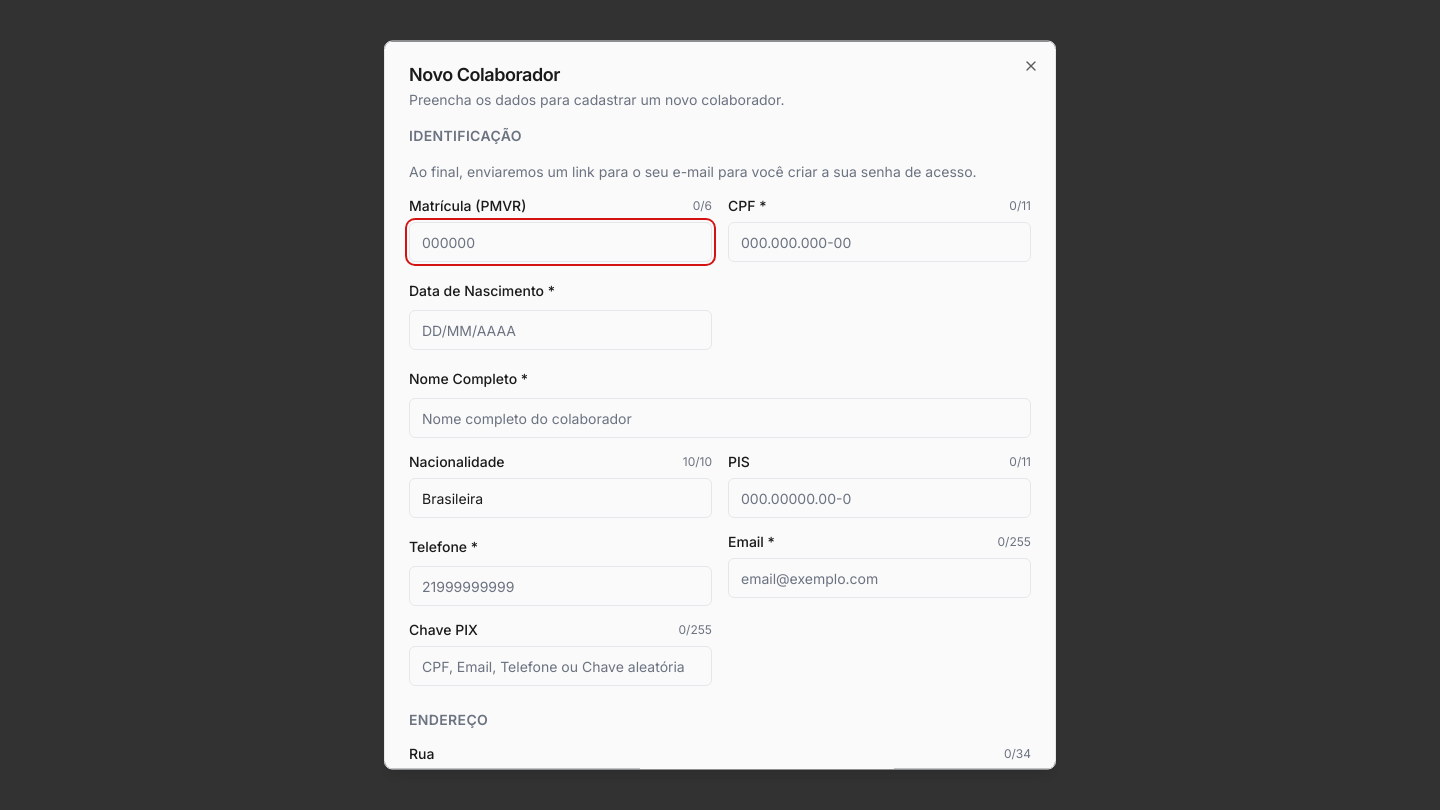
it: ColaboradorDialog (interação) › modo público › traduz 'CPF já cadastrado' em vez de repassar o texto do servidor
Type "Beltrana Silva" into the field labelled "Nome Completo *".
click(720, 418); type("Beltrana Silva")  # box [409, 398, 1031, 438]
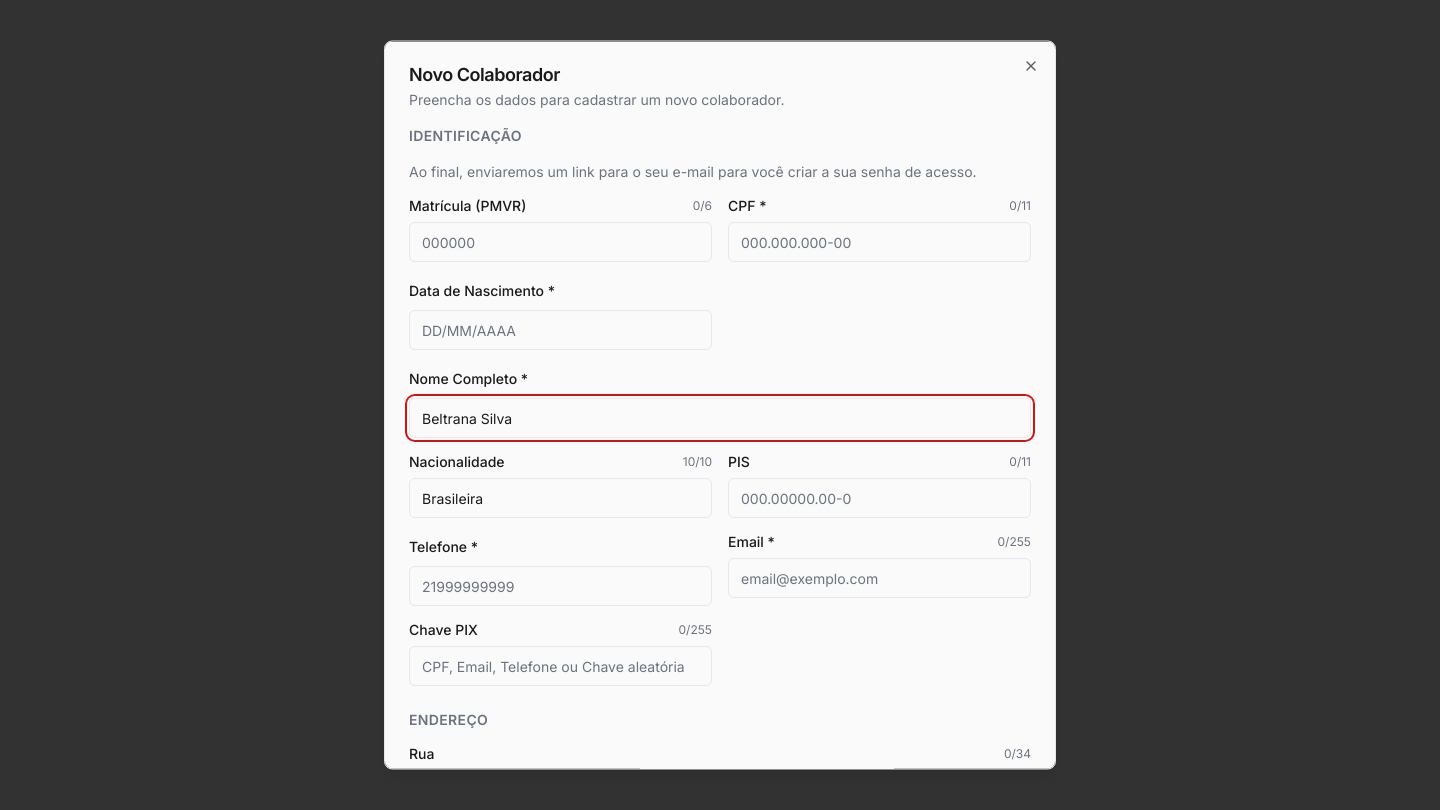
Type "01234567890" into the field labelled "CPF *".
click(880, 242); type("01234567890")  # box [728, 222, 1031, 262]
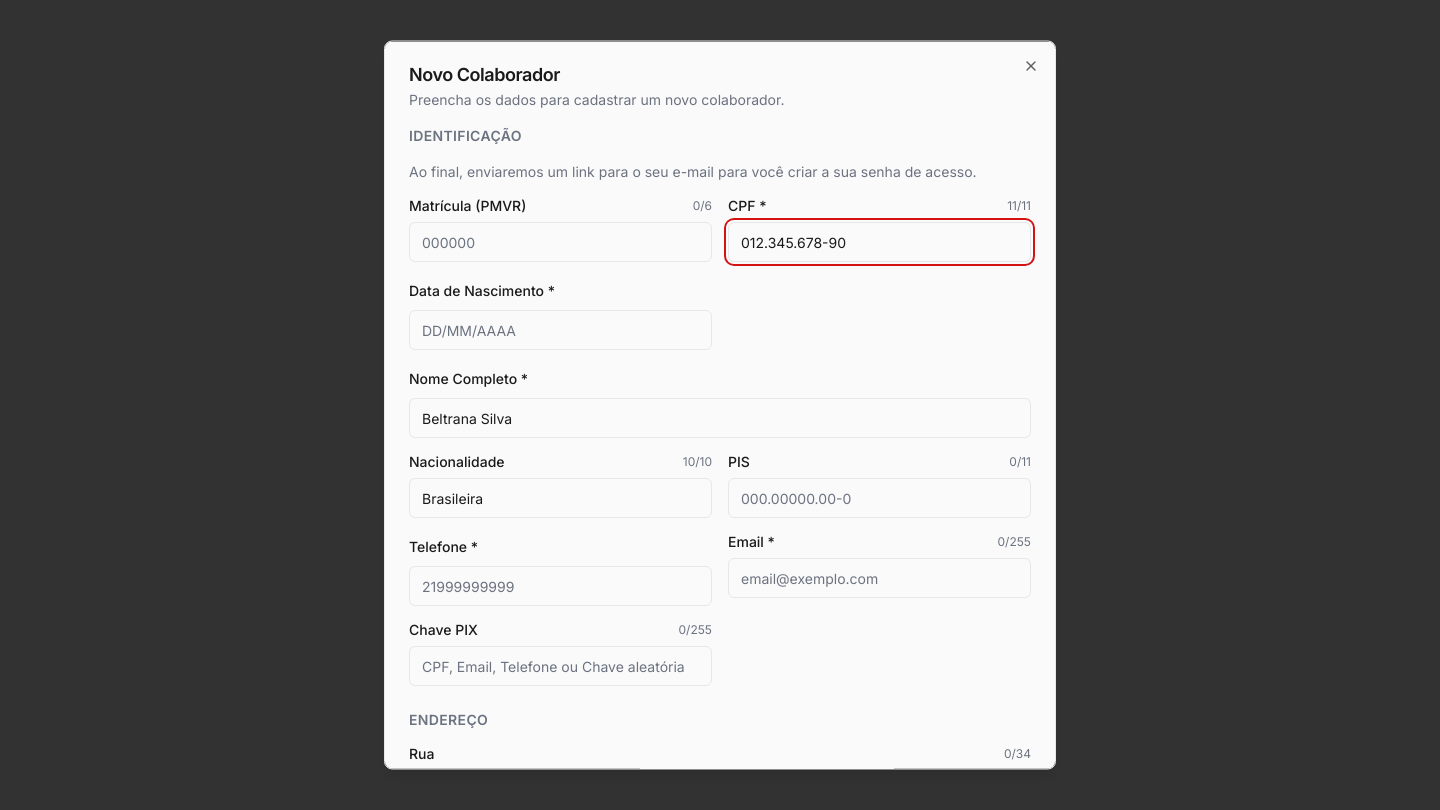
Type "20051990" into the field labelled "Data de Nascimento *".
click(560, 330); type("20051990")  # box [409, 310, 712, 350]
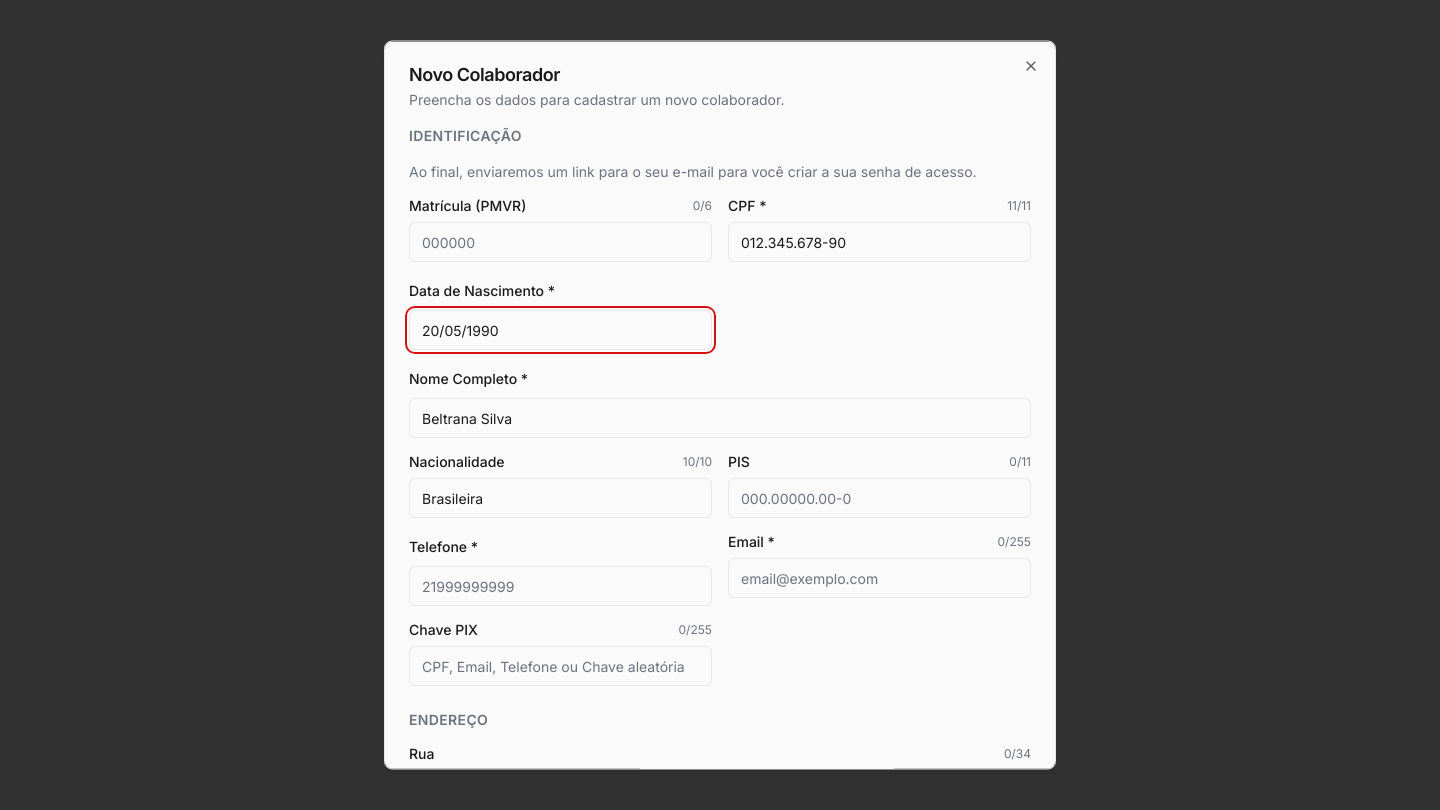
Type "24999998888" into the field labelled "Telefone *".
click(560, 586); type("24999998888")  # box [409, 566, 712, 606]
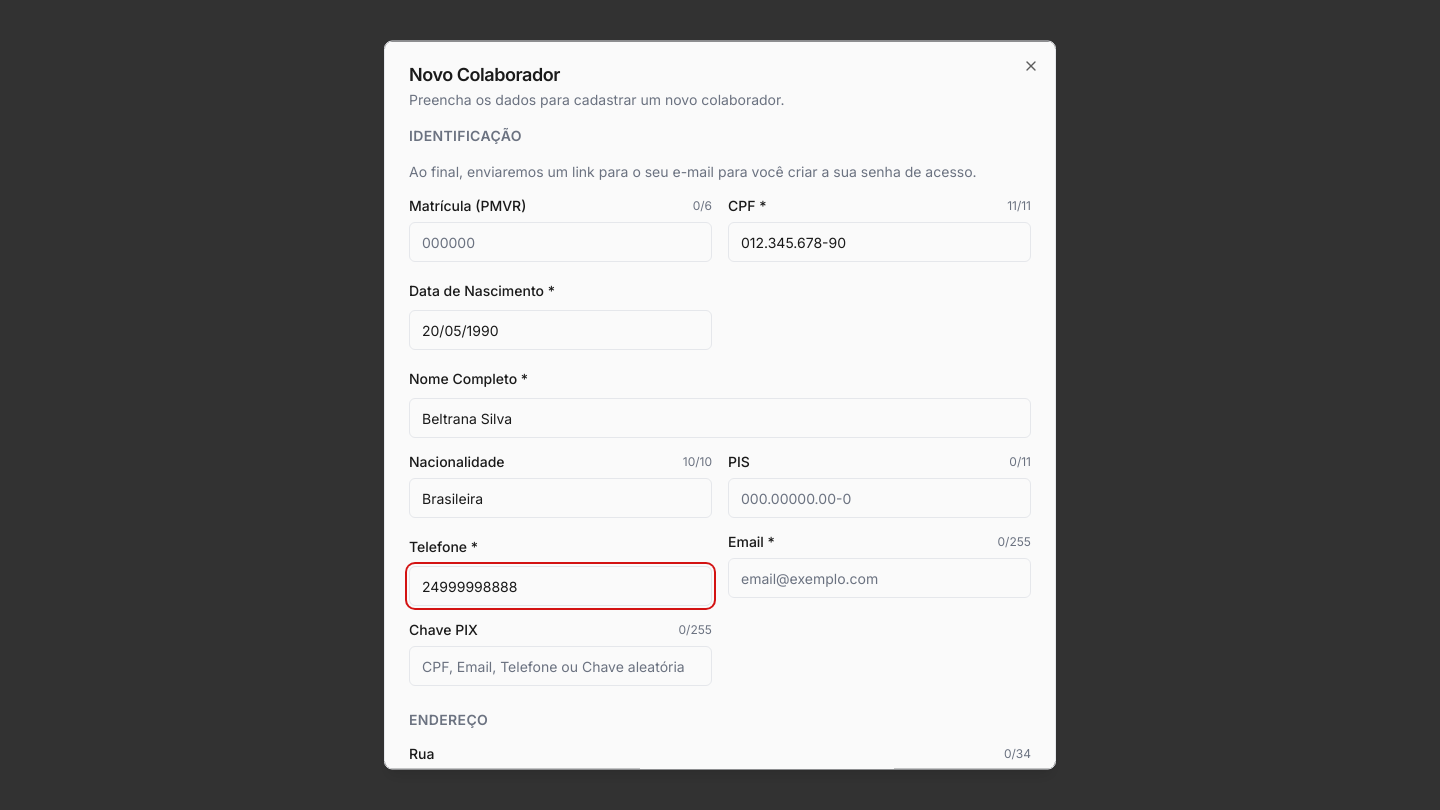
Type "nova@exemplo.com" into the field labelled "Email *".
click(880, 578); type("nova@exemplo.com")  # box [728, 558, 1031, 598]
(page scrolled)
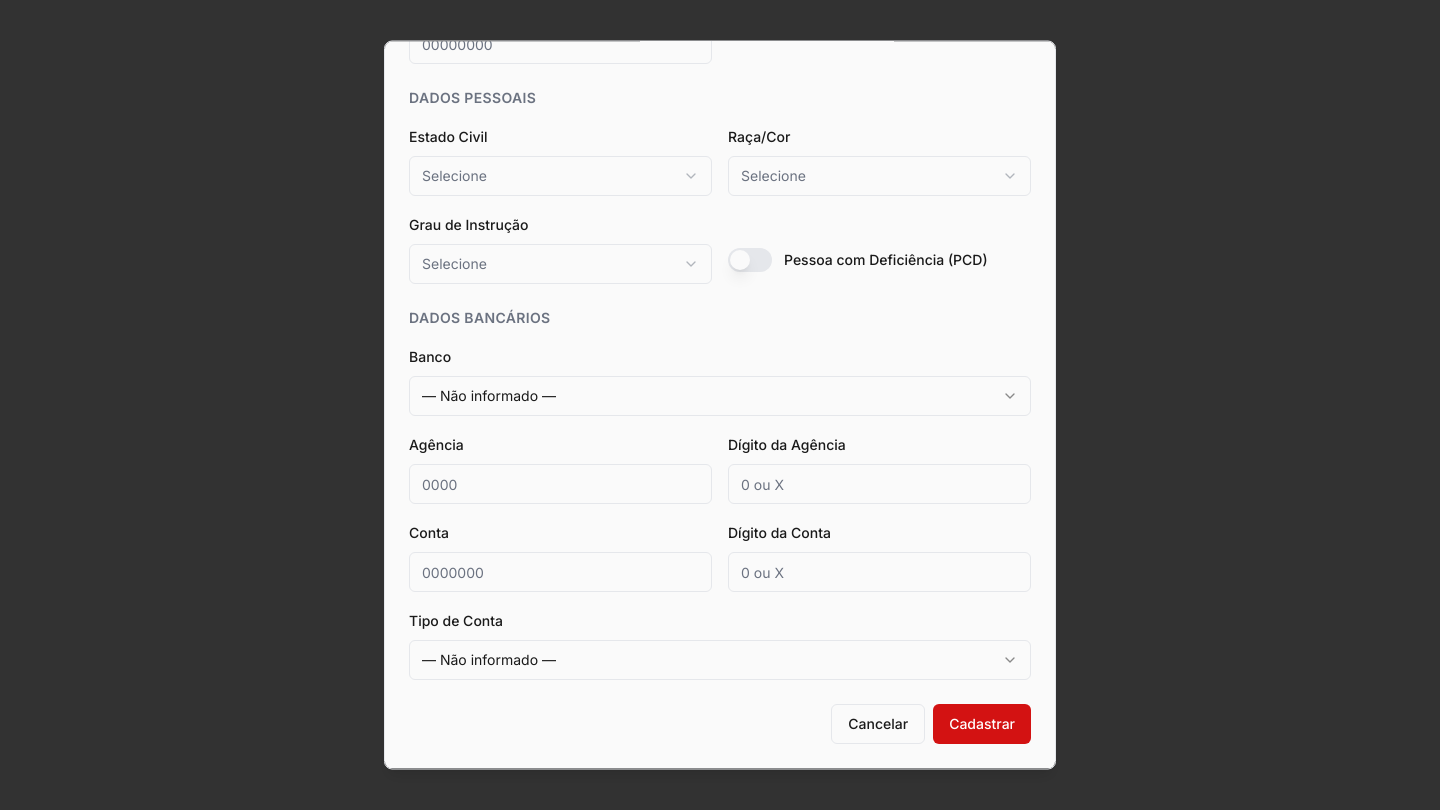
Click the button "Cadastrar".
click(982, 724)  # box [933, 704, 1031, 744]
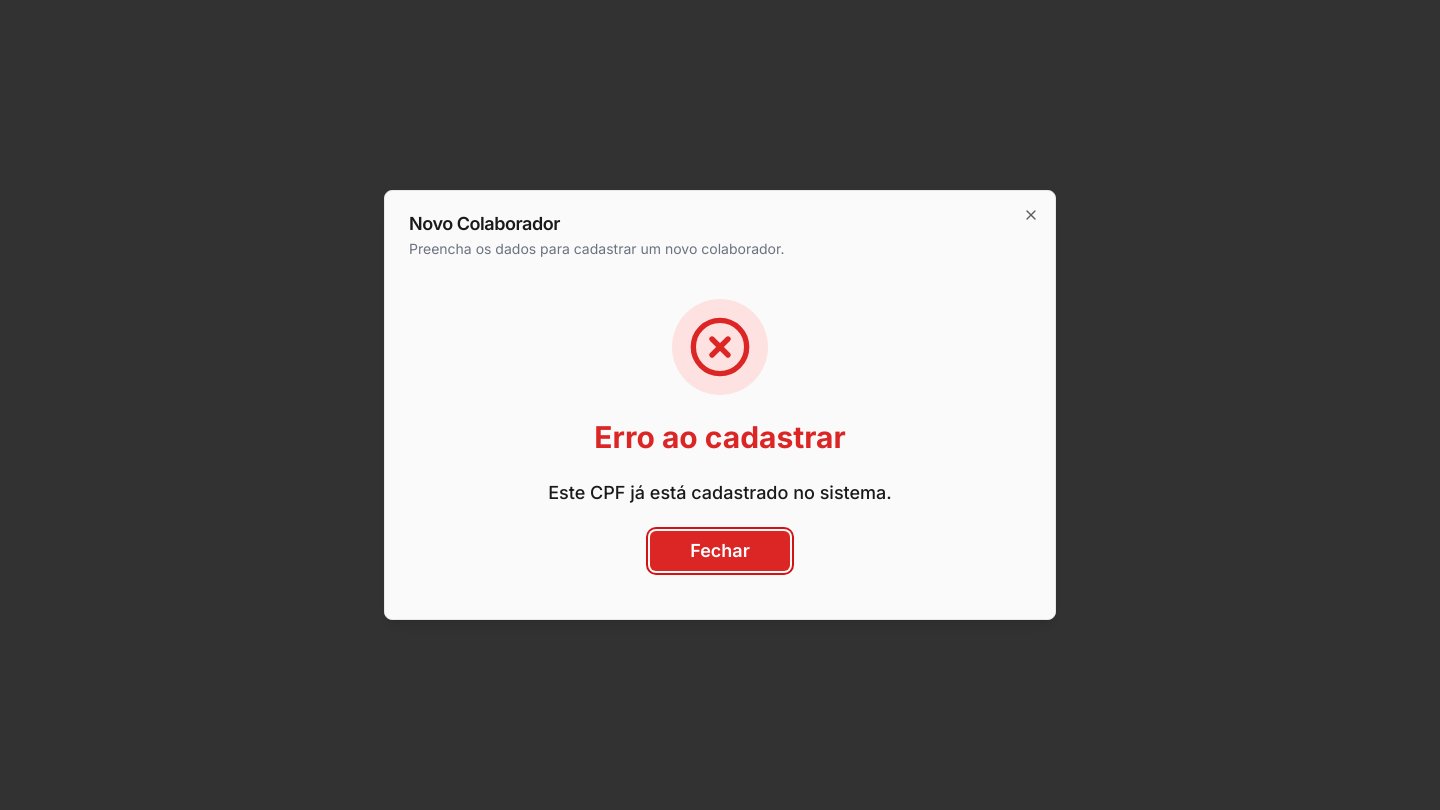
Now the text "Este CPF já está cadastrado no sistema." is shown, box [548, 479, 892, 507]
